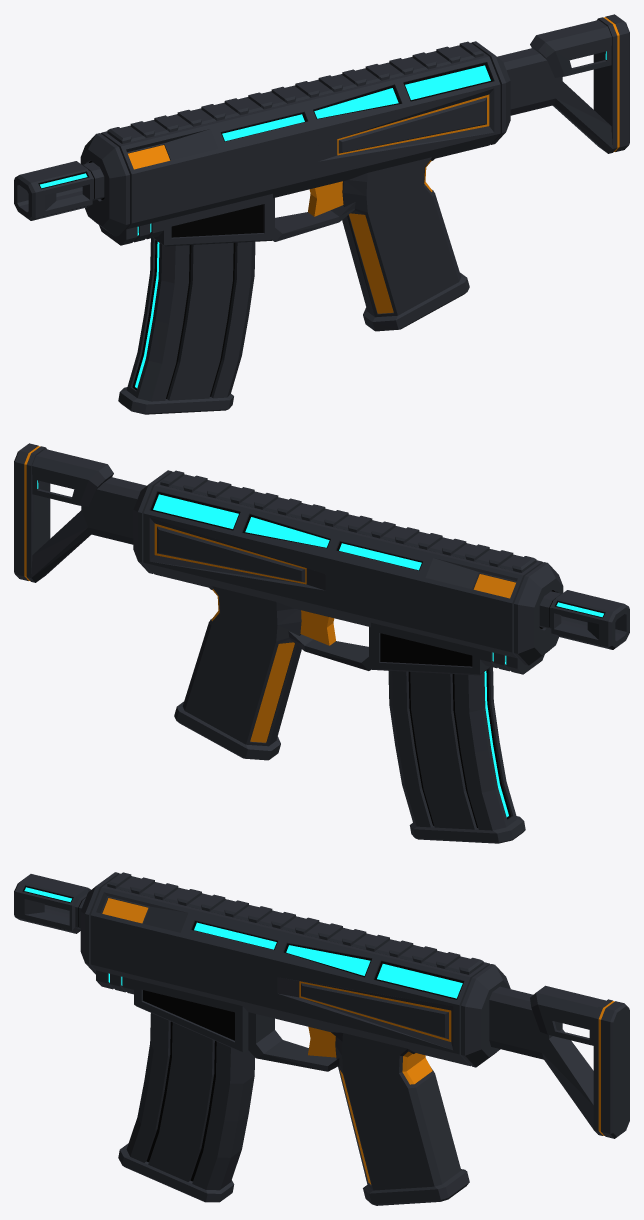
The model's file is SM_SMG.fbx.
3 views of the same model, one above another, from view 1: azimuth 30°, elevation 25°; view 2: azimuth 150°, elevation 25°; view 3: azimuth 330°, elevation 25° (orthographic).
Parts seen in each view (by area): view 1: SM_SMG, SM_SMG_Magazine; view 2: SM_SMG, SM_SMG_Magazine; view 3: SM_SMG, SM_SMG_Magazine.
Part boxes in pixels (<box>): SM_SMG: <box>14,14,629,331</box>; SM_SMG_Magazine: <box>118,238,255,414</box>; SM_SMG: <box>14,443,629,760</box>; SM_SMG_Magazine: <box>388,667,525,843</box>; SM_SMG: <box>14,872,629,1205</box>; SM_SMG_Magazine: <box>118,1013,254,1202</box>.
Bounding box in the file's own units: 74.88 × 35.29 × 8.89.
